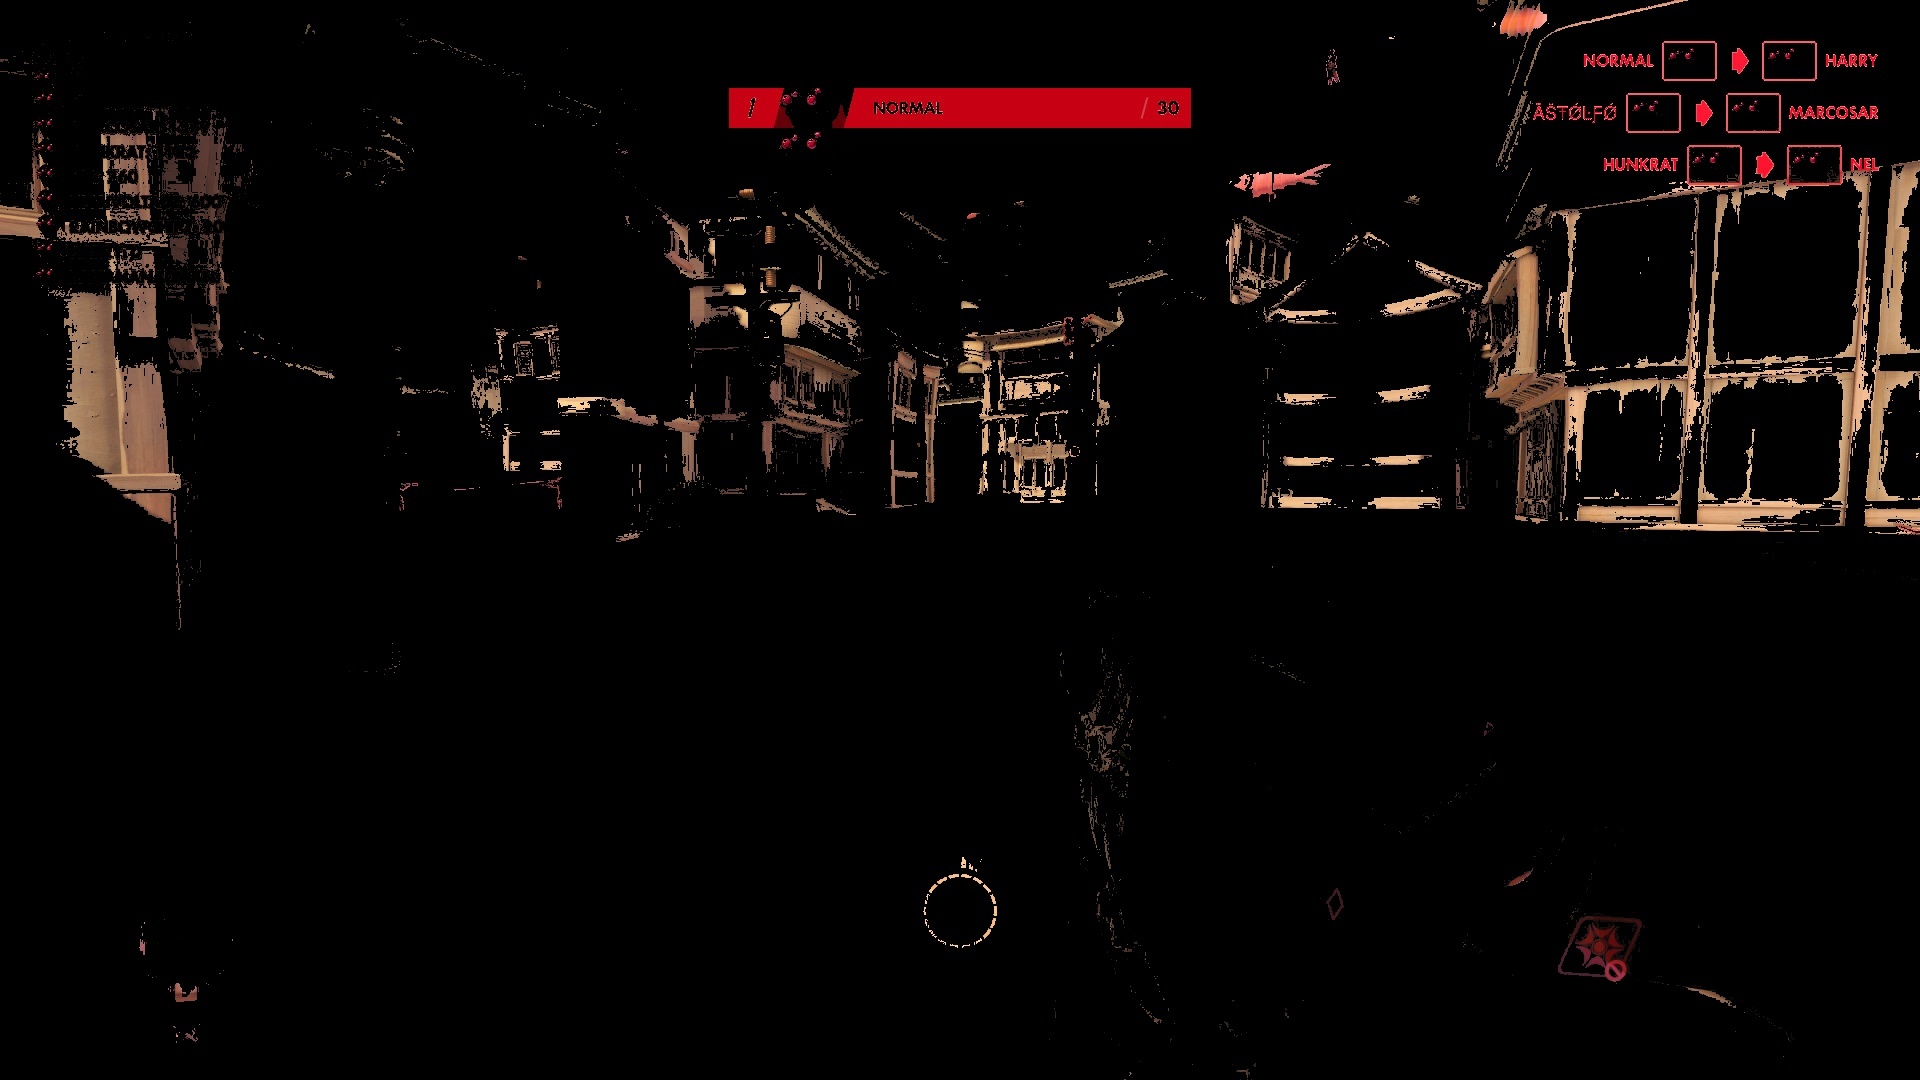widowmaker: (1319, 46, 1348, 88), (539, 473, 568, 514), (1058, 315, 1083, 353)
